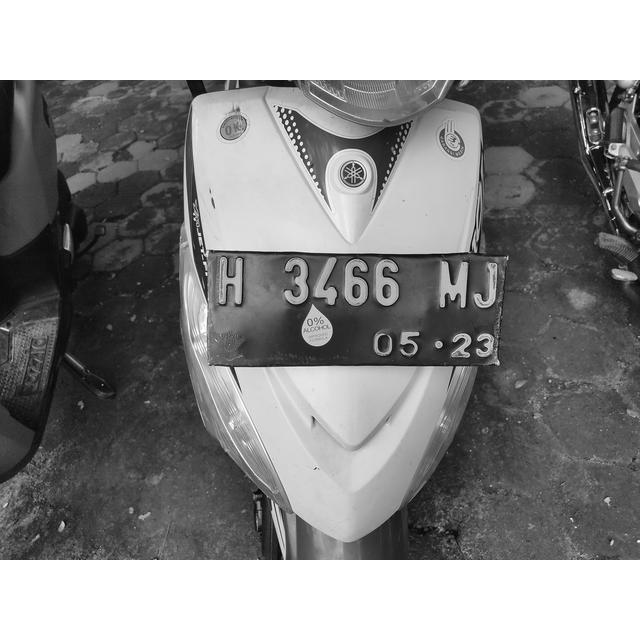license: (215, 256, 499, 362)
